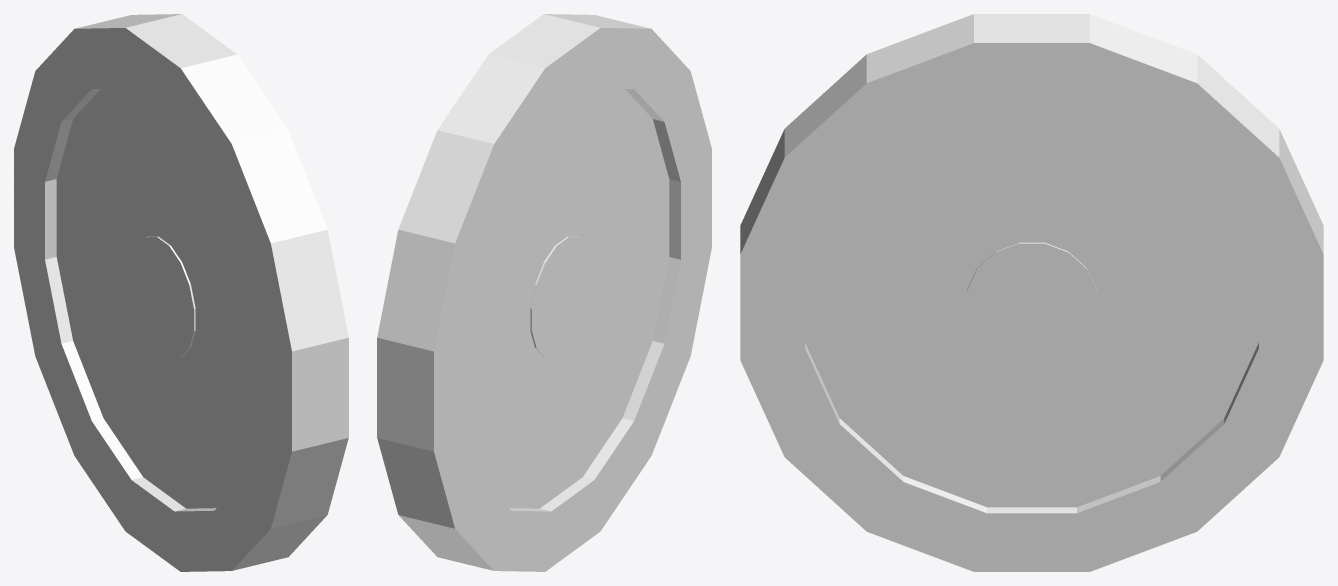
File: gpp_mediumtire_flat.obj
The picture shows the model from 3 angles, left to right: view 1: azimuth 30°, elevation 25°; view 2: azimuth 150°, elevation 25°; view 3: azimuth 270°, elevation 25°; orthographic projection. The views are drawn at different scales.
Parts seen in each view (by area): view 1: steelie; view 2: steelie; view 3: steelie.
Boxes of the visible parts, x1,y1,x2,y2 form: steelie: [14, 14, 348, 571]; steelie: [377, 14, 711, 571]; steelie: [740, 14, 1323, 571].
Size of the model in its own units: 0.0771 by 0.6534 by 0.6534.
